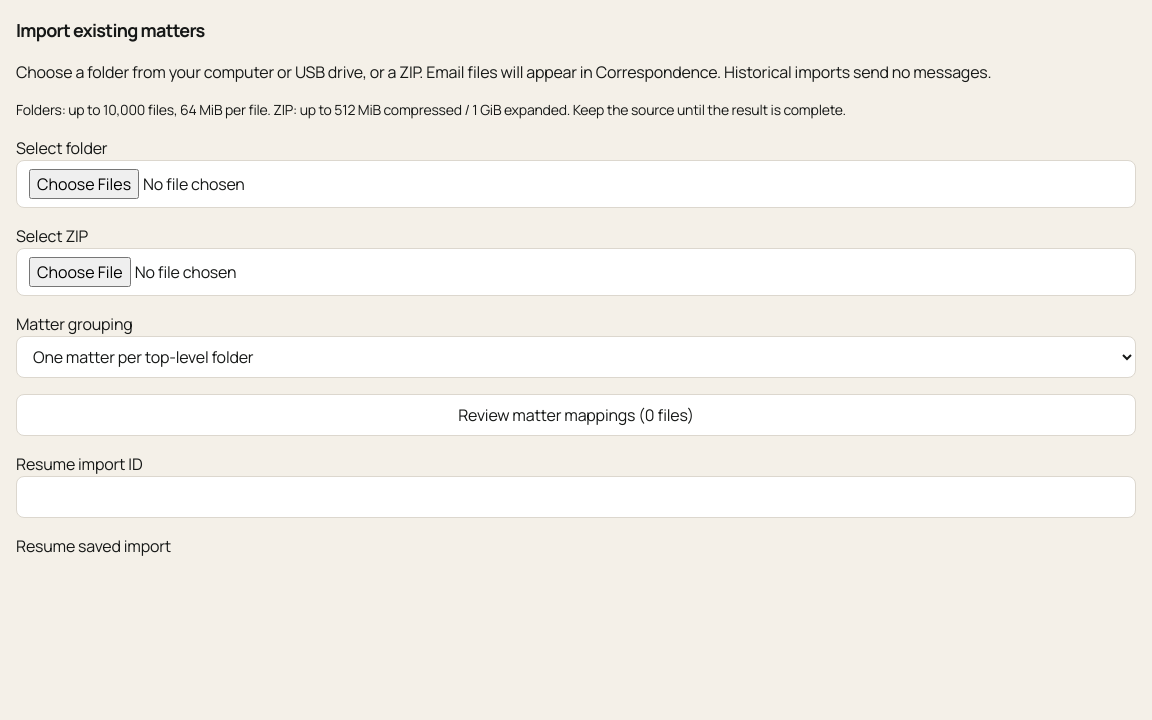
Test case: matter import › resumes a saved batch and shows individual failures
Type "run" into the field labelled "Resume import ID" at coordinates (576, 497), box [16, 476, 1136, 518]
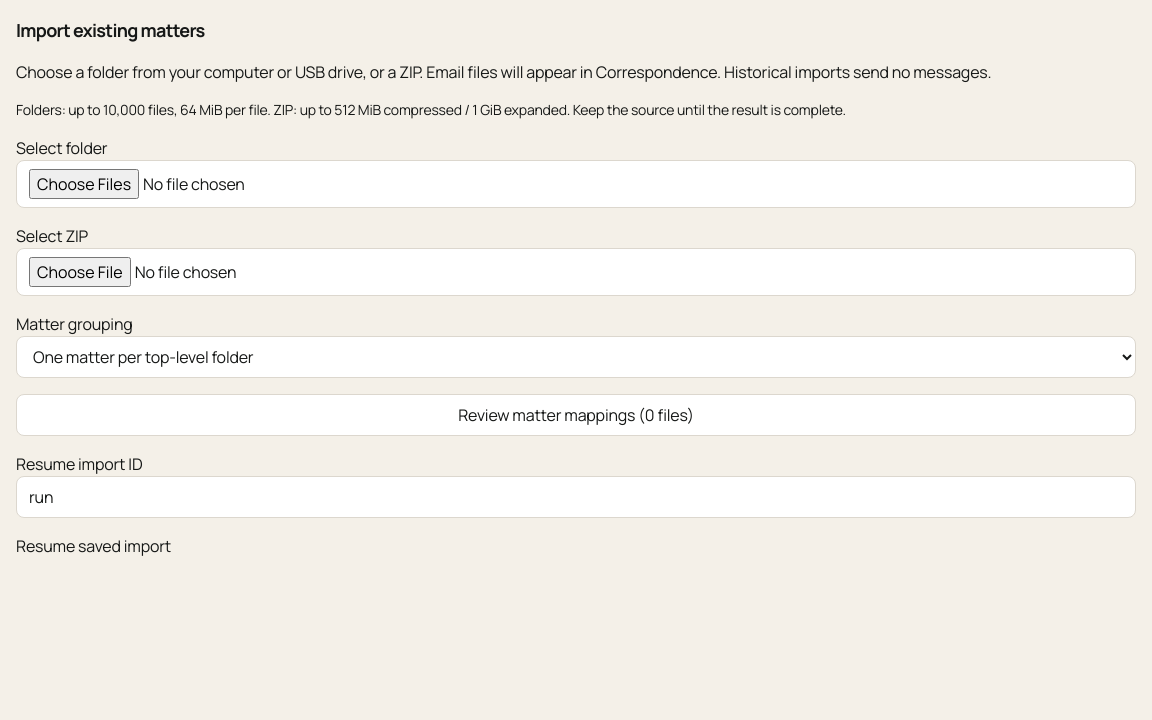
Click the button "Resume saved import" at coordinates (94, 546), box [16, 534, 171, 558]
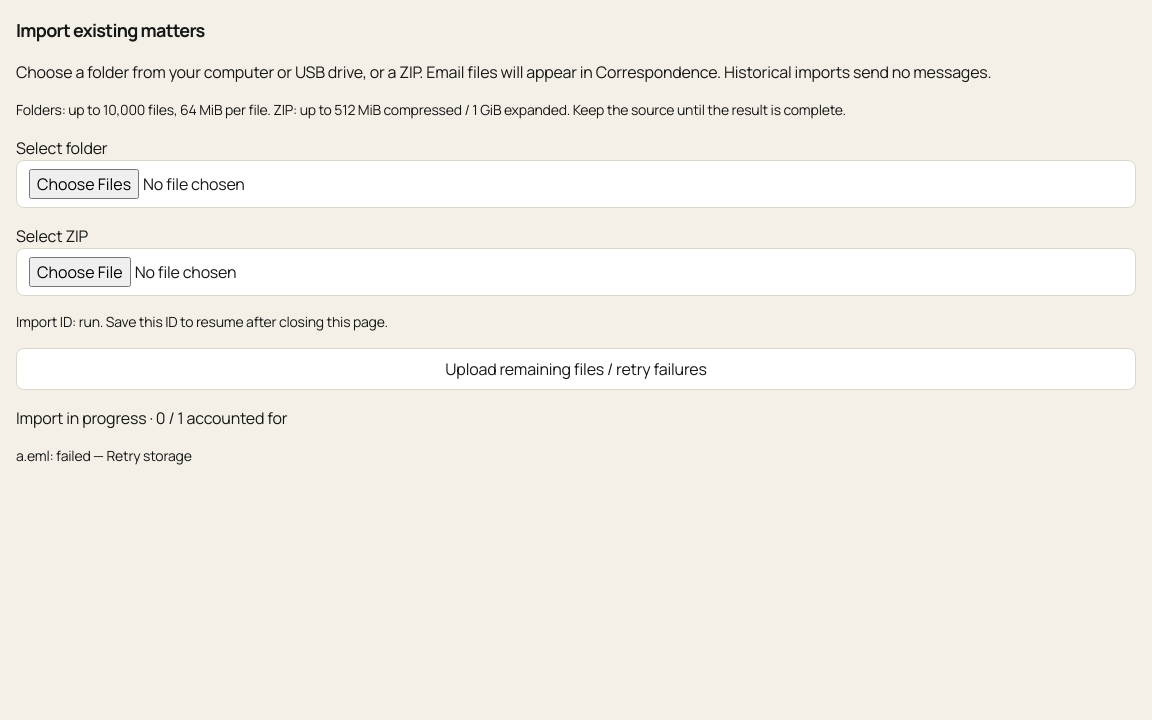
Check: the list item "a.eml: failed — Retry storage" is shown, box [16, 446, 192, 465]
Check: the message shows "0 / 1 accounted", box [16, 407, 287, 429]
